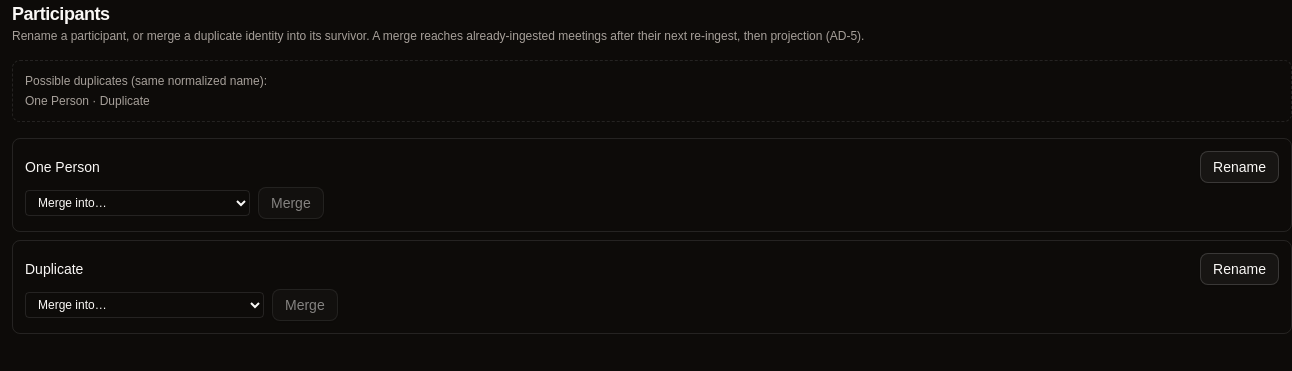
it: Participants › shows an error and leaves the list unchanged when a merge is refused
Expected: the list item with test id "participant-row-p-2" is shown, [12, 240, 1291, 334]
Select "One Person (mail:one@contoso.com)" in the dropdown with test id "merge-select-p-2". click: (144, 305)
box: [25, 292, 264, 318]
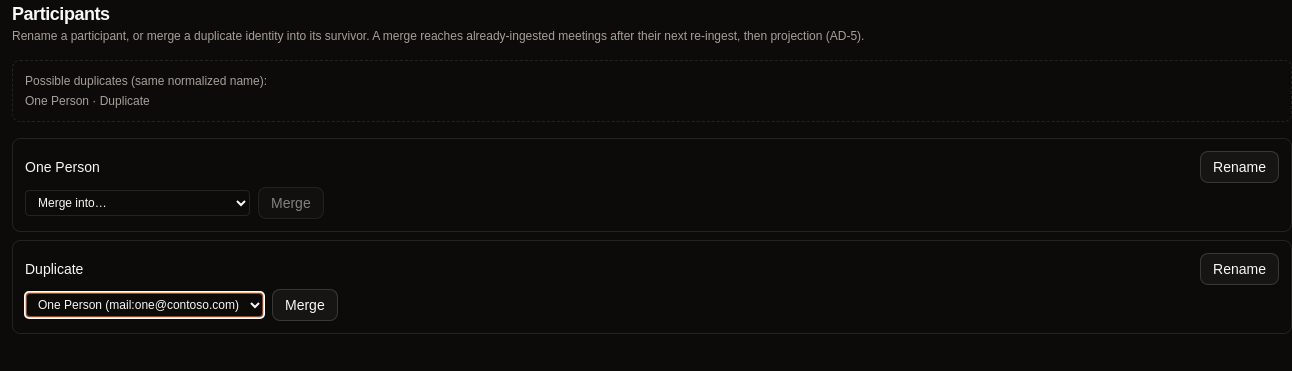
Click the button with test id "merge-button-p-2". click: click(305, 305)
box: [272, 289, 338, 321]
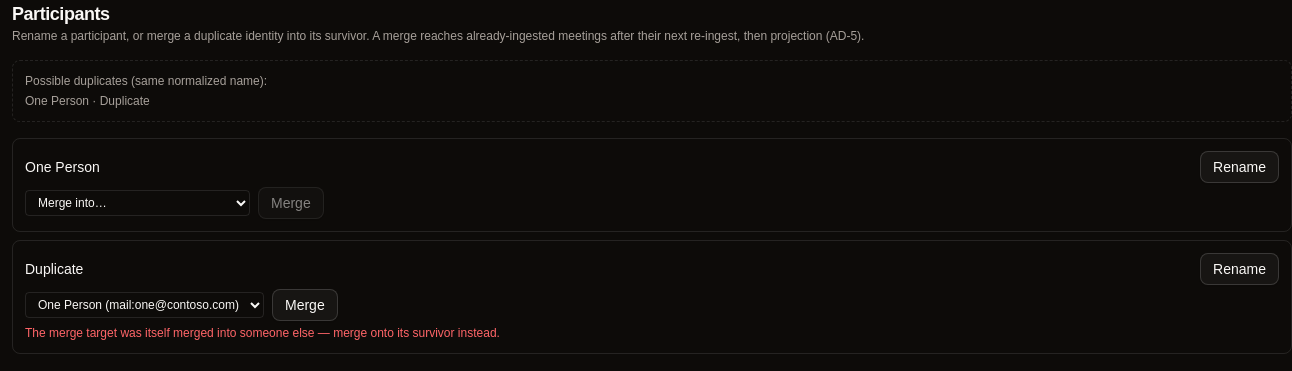
Expected: the list item with test id "participant-row-p-2" is shown, [12, 240, 1291, 354]
Expected: the message with test id "merge-error-p-2" shows "merge onto its survivor instead", [25, 326, 500, 340]
